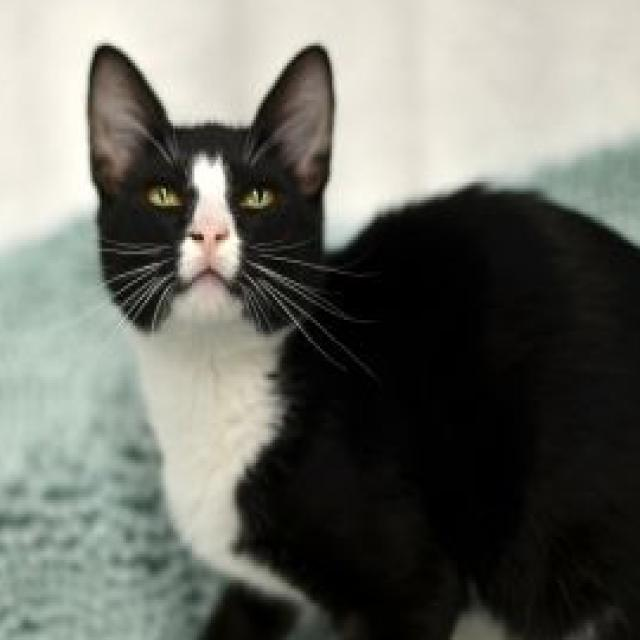Tuxedo: (83, 37, 640, 640)
